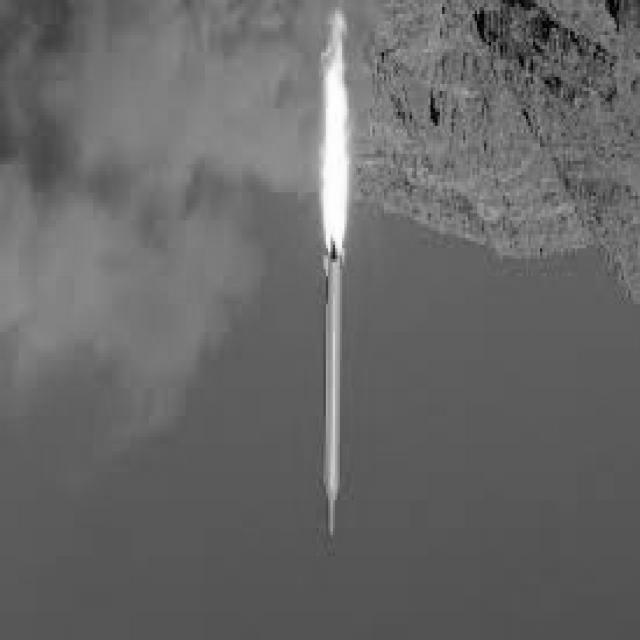Missile: (315, 229, 353, 561)
